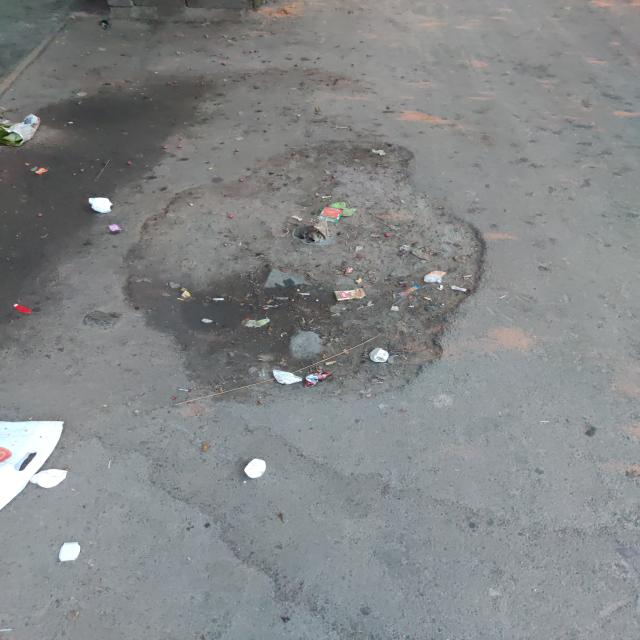potholes: (118, 138, 487, 406)
